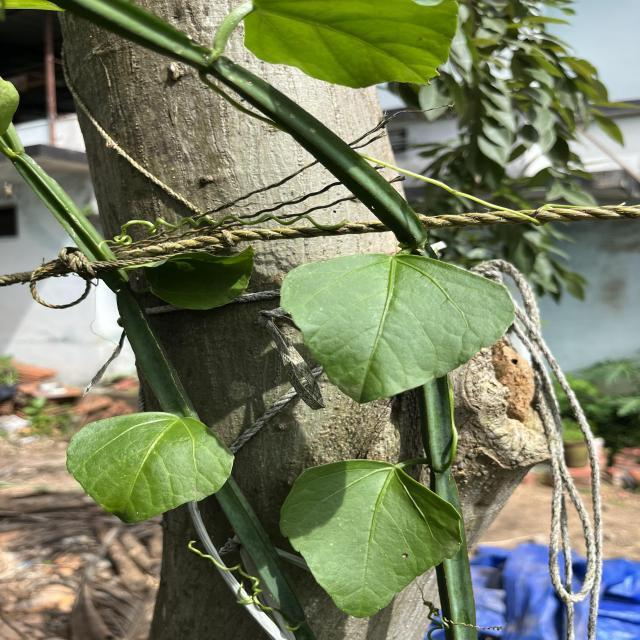Cissus quadrangularis: (272, 250, 520, 408), (276, 456, 468, 622), (62, 408, 238, 526)
